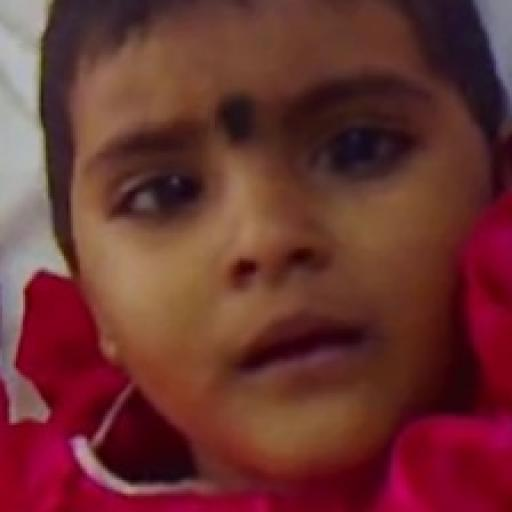Autism: (72, 14, 502, 501)
